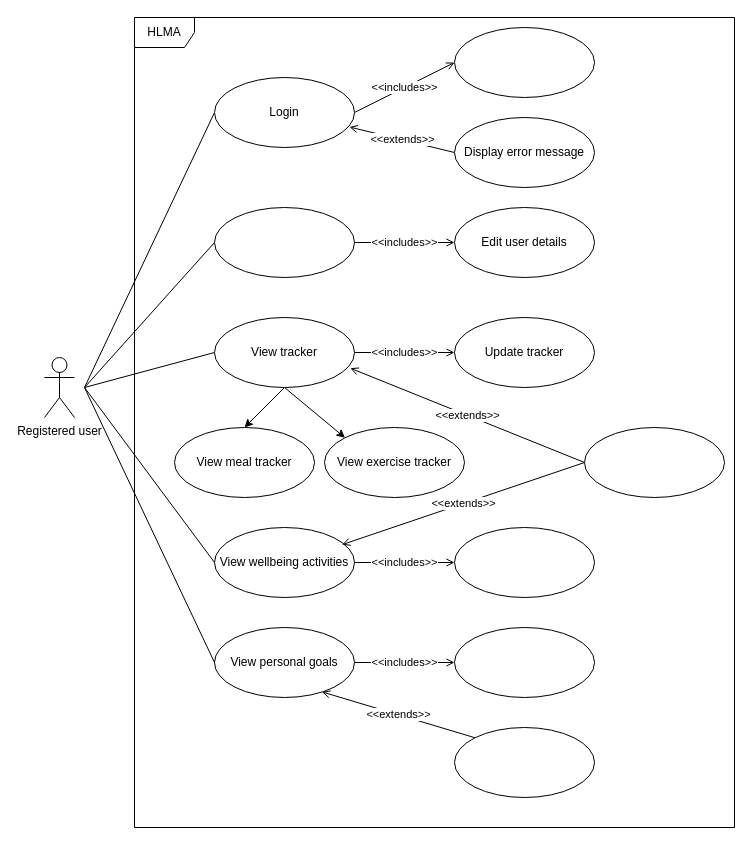
Some shapes in this 752 by 845 pixel diagram are drawn without their labels. The centre of each missing label's shape, as x and y in pixels:
Complete wellbeing quiz: the point at 524,562
Set personal goals: the point at 524,662
Verify account: the point at 524,62
View in-app rewards: the point at 524,762
View recommendations: the point at 654,462
View user details: the point at 284,242
